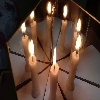fire: (53, 46, 58, 67)
